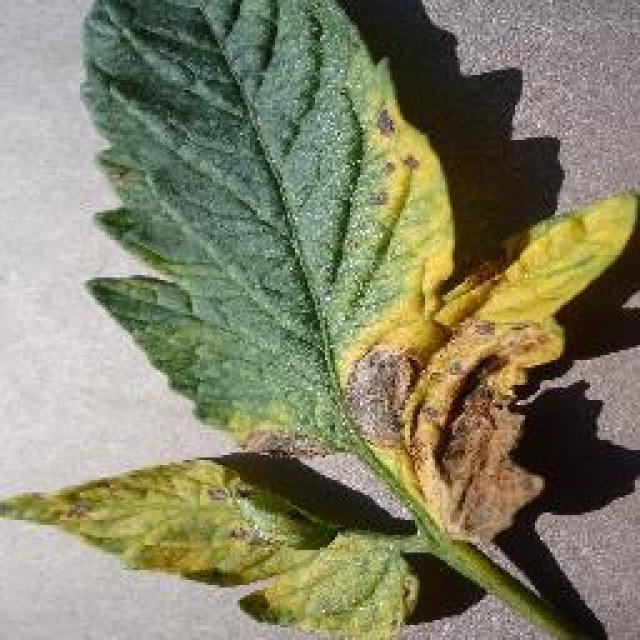Tomato___Early_blight: (0, 0, 638, 638)
